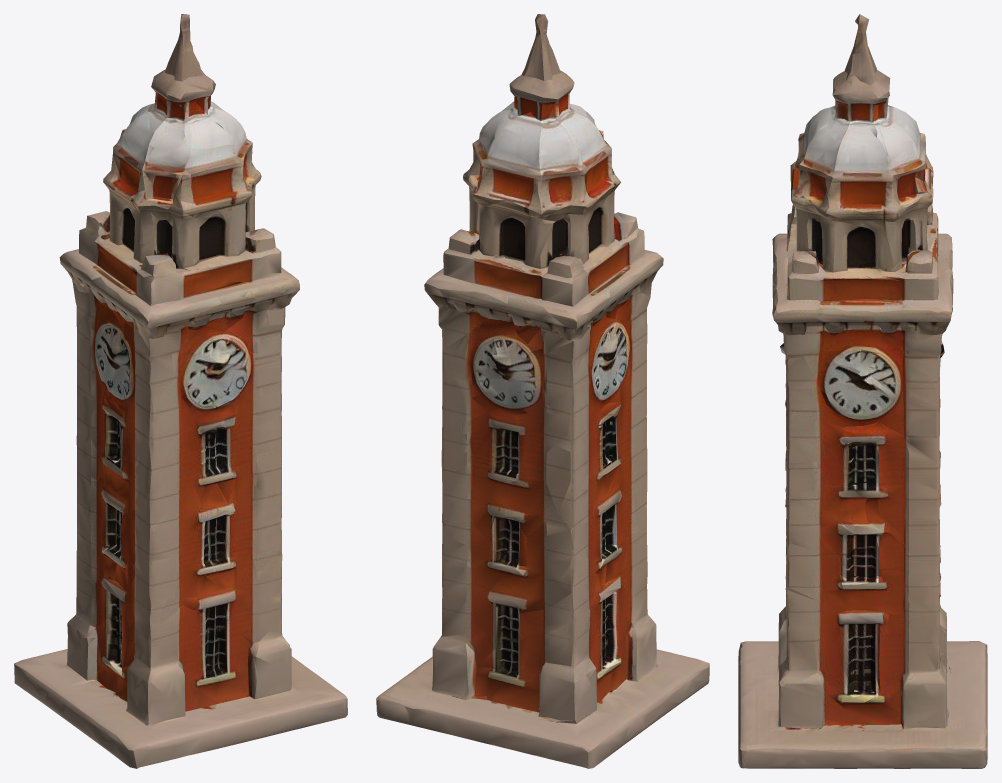
File: hong-kong-clock-tower.glb
The picture shows the model from 3 angles, left to right: view 1: azimuth 30°, elevation 25°; view 2: azimuth 150°, elevation 25°; view 3: azimuth 270°, elevation 25°; orthographic projection. The views are drawn at different scales.
Parts seen in each view (by area): view 1: logan-textured.obj; view 2: logan-textured.obj; view 3: logan-textured.obj.
Boxes of the visible parts, x1=… form: logan-textured.obj: x1=14, y1=14, x2=347, y2=768; logan-textured.obj: x1=376, y1=14, x2=709, y2=768; logan-textured.obj: x1=738, y1=14, x2=987, y2=768.
Size of the model in its own units: 0.3338 by 1 by 0.322.
1 material, 1 textured.
